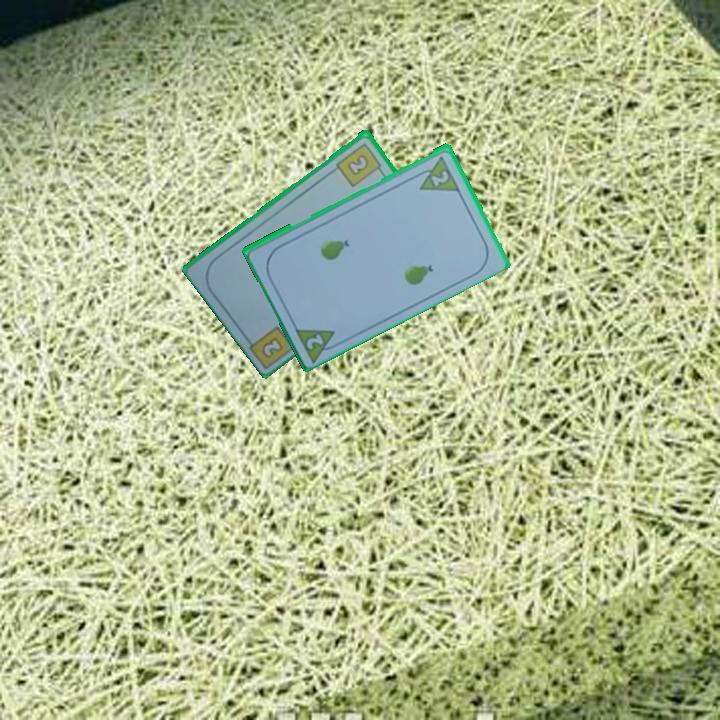2b: (333, 139, 386, 189), (260, 335, 284, 359)
2p: (428, 166, 452, 189), (302, 330, 327, 352)
